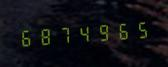eight: (36, 23, 54, 49)
five: (131, 16, 149, 42)
four: (74, 20, 92, 46)
nine: (93, 19, 111, 45)
seven: (55, 22, 73, 47)
six: (17, 24, 35, 50), (112, 18, 130, 43)
